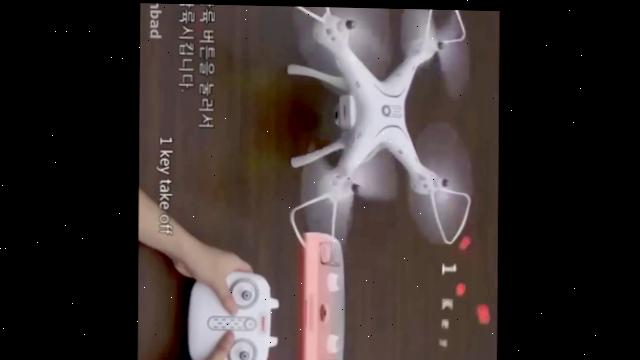drone: (284, 5, 471, 251)
